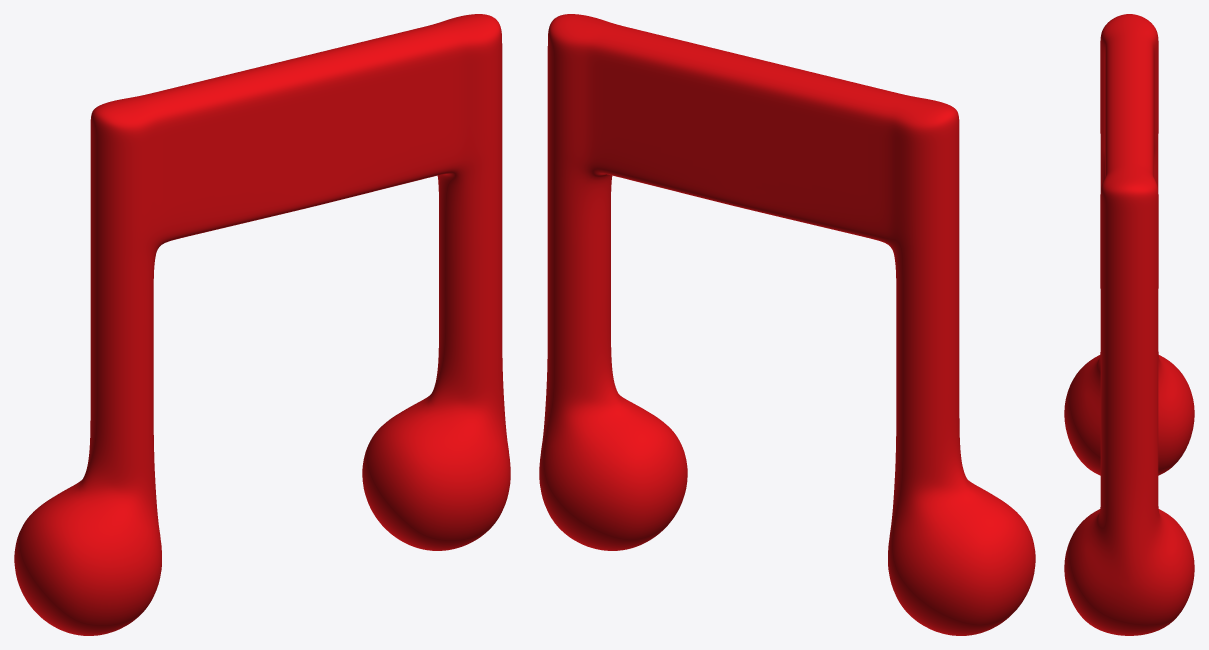
Rendered from music.glb.
3 renders of one model, left to right at view 1: azimuth 30°, elevation 25°; view 2: azimuth 150°, elevation 25°; view 3: azimuth 270°, elevation 25°, orthographic. The views are drawn at different scales.
Visible parts, largest first — view 1: music; view 2: music; view 3: music.
Boxes of the visible parts, x1,y1,x2,y2 form: music: (14,14,510,635); music: (539,14,1035,635); music: (1064,14,1194,635).
Size of the model in its own units: 1.82 by 1.89 by 0.4758.
